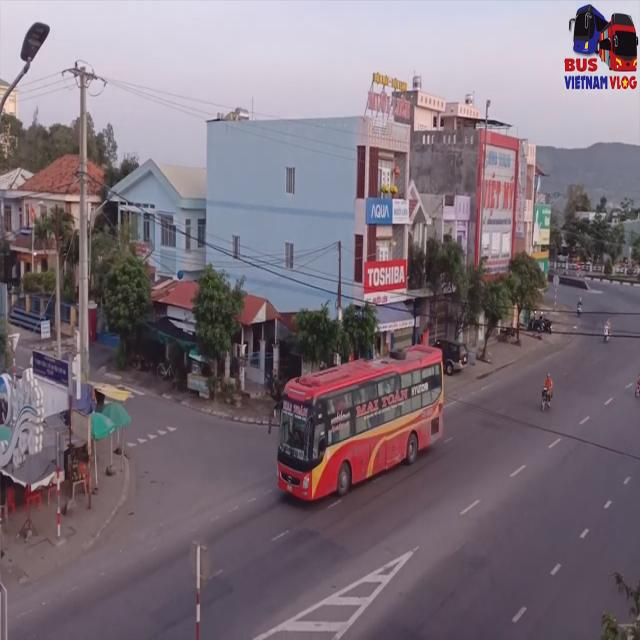bus: (282, 358, 452, 511)
motorbike: (537, 370, 552, 415)
